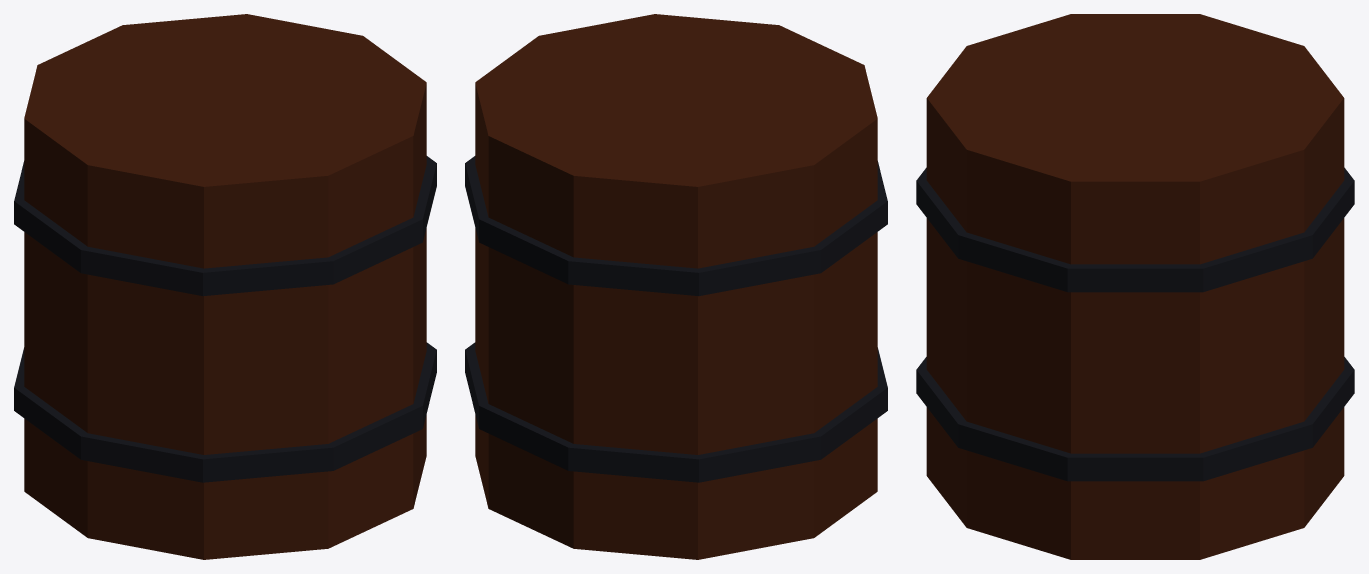
Rendered from quench_barrel.obj.
3 renders of one model, left to right at view 1: azimuth 30°, elevation 25°; view 2: azimuth 150°, elevation 25°; view 3: azimuth 270°, elevation 25°, orthographic.
Parts seen in each view (by area): view 1: quench_barrel; view 2: quench_barrel; view 3: quench_barrel.
Part boxes in pixels (<box>): quench_barrel: <box>14,14,436,559</box>; quench_barrel: <box>465,14,887,559</box>; quench_barrel: <box>916,14,1354,559</box>.
Size of the model in its own units: 0.7989 by 0.8 by 0.84.
